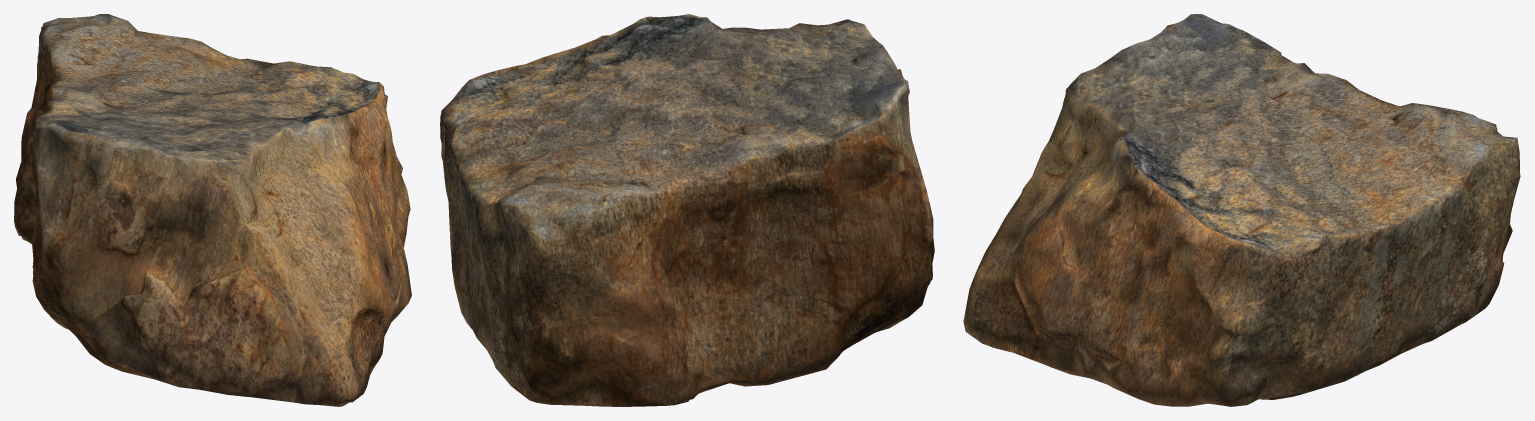
File: namaqualand_boulder_03-near.glb
3 renders of one model, left to right at view 1: azimuth 30°, elevation 25°; view 2: azimuth 150°, elevation 25°; view 3: azimuth 270°, elevation 25°, orthographic. The views are drawn at different scales.
Visible parts, largest first — view 1: boulder_03_LOD0; view 2: boulder_03_LOD0; view 3: boulder_03_LOD0.
Boxes of the visible parts, box(x1,y1,x2,y2) form: boulder_03_LOD0: box(14, 14, 411, 406); boulder_03_LOD0: box(440, 14, 934, 406); boulder_03_LOD0: box(963, 14, 1520, 406).
Bounding box in the file's own units: 1.57 × 0.961 × 2.
1 material, 1 textured.
